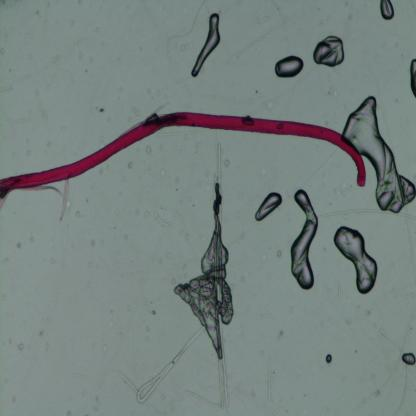Air bubble: (344, 94, 416, 215), (334, 224, 378, 296), (289, 184, 316, 294), (191, 12, 221, 78), (312, 33, 346, 68), (255, 191, 284, 222), (274, 55, 304, 79), (408, 55, 416, 99), (380, 1, 394, 22), (401, 349, 416, 367), (325, 353, 332, 365)
Background material: (320, 284, 357, 329), (316, 68, 335, 97), (154, 164, 170, 179), (260, 98, 274, 113), (73, 34, 90, 46), (253, 12, 268, 24), (0, 82, 16, 93), (318, 245, 327, 264), (37, 104, 48, 119), (275, 325, 284, 343), (97, 131, 106, 147), (144, 143, 154, 157), (32, 83, 42, 96), (131, 106, 139, 122), (50, 51, 60, 63), (378, 38, 388, 50), (221, 157, 230, 170), (116, 323, 124, 337), (89, 237, 98, 249), (126, 159, 135, 170), (17, 340, 24, 354), (239, 232, 247, 244), (275, 249, 284, 259), (262, 253, 270, 264), (116, 83, 124, 94), (86, 52, 94, 63), (48, 255, 57, 264), (170, 276, 179, 285), (24, 29, 34, 37), (253, 88, 261, 98), (388, 261, 396, 271), (62, 408, 72, 416), (379, 328, 387, 338), (102, 344, 110, 354), (328, 316, 336, 326), (75, 208, 82, 219), (68, 18, 76, 27), (255, 43, 261, 55), (409, 291, 416, 301), (361, 46, 368, 56), (28, 233, 34, 244), (238, 332, 246, 340), (258, 350, 266, 358), (16, 240, 23, 249), (94, 395, 100, 405), (2, 133, 8, 143), (402, 299, 410, 306), (143, 211, 151, 218), (98, 106, 106, 113), (236, 211, 242, 220), (46, 139, 52, 148), (241, 276, 246, 285), (10, 395, 15, 404), (134, 209, 140, 216), (34, 9, 40, 16), (263, 303, 270, 309), (44, 341, 48, 351), (27, 150, 32, 158), (342, 374, 347, 382), (348, 14, 353, 22), (0, 47, 5, 55), (177, 176, 182, 184), (293, 30, 299, 36), (182, 43, 186, 52), (78, 53, 84, 59), (237, 0, 241, 9), (83, 67, 88, 74), (324, 404, 328, 412), (39, 330, 43, 338), (87, 259, 91, 267), (160, 396, 166, 401), (98, 168, 104, 173), (289, 306, 294, 312), (110, 322, 114, 329), (152, 310, 156, 316), (302, 392, 306, 397), (355, 350, 358, 355), (48, 3, 51, 8), (12, 152, 15, 156)
Cellulose filter fibre: (316, 350, 326, 371)
Glass filter fibre: (23, 179, 76, 387), (172, 222, 234, 360), (360, 304, 416, 408), (136, 325, 207, 405), (80, 17, 121, 150), (216, 141, 232, 416), (113, 239, 168, 316), (316, 205, 416, 222), (186, 379, 244, 407), (373, 70, 392, 143), (178, 216, 201, 270), (134, 192, 183, 216), (164, 33, 184, 87), (404, 204, 416, 285), (392, 364, 410, 416), (117, 369, 143, 398), (0, 106, 31, 128), (266, 351, 274, 401), (188, 79, 198, 111), (154, 210, 170, 228), (337, 280, 343, 300), (260, 312, 274, 318)
Microfibre: (0, 109, 366, 193)
